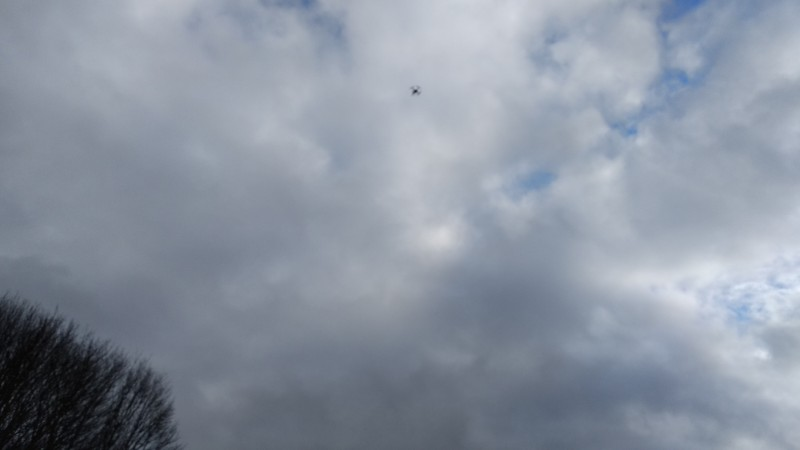drone: (408, 84, 422, 96)
